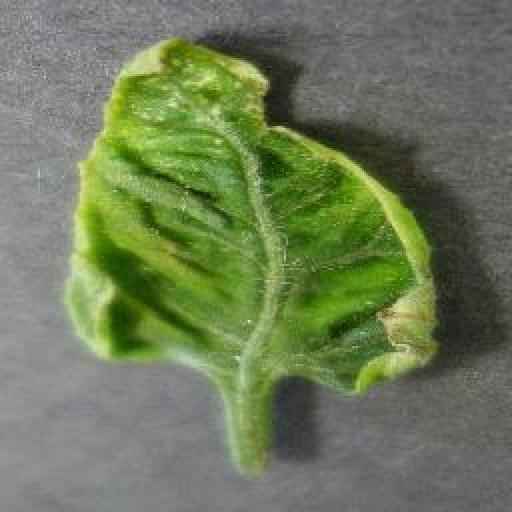disease_tomato: (67, 36, 444, 397)
